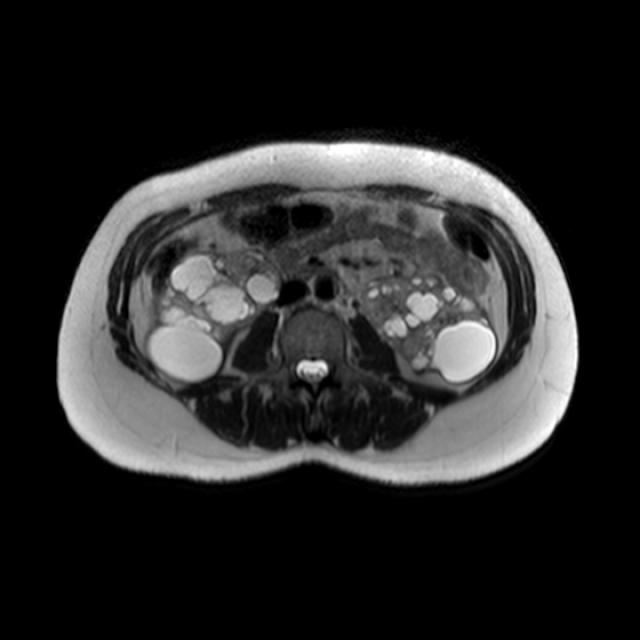sag: (143, 248, 284, 385)
sol: (359, 275, 498, 385)
